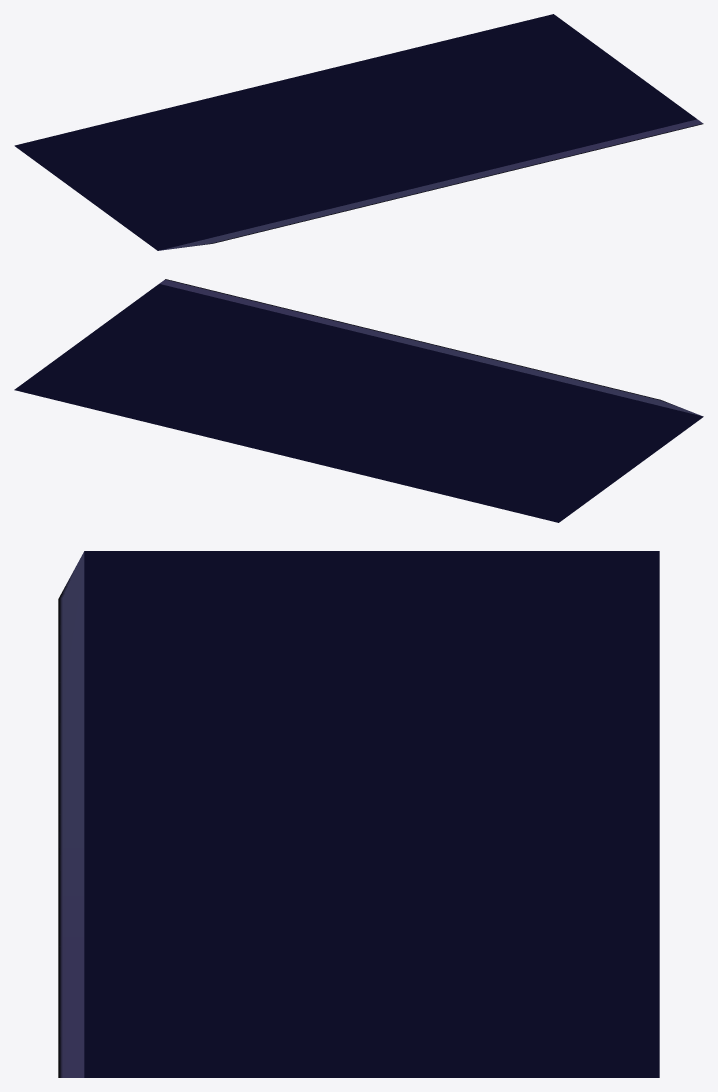
3 renders of one model, top to bottom at view 1: azimuth 30°, elevation 25°; view 2: azimuth 150°, elevation 25°; view 3: azimuth 270°, elevation 25°, orthographic. The views are drawn at different scales.
Visible parts, largest first — view 1: Joint_0_Object_0; view 2: Joint_0_Object_0; view 3: Joint_0_Object_0.
Boxes of the visible parts, <box> form: Joint_0_Object_0: <box>14,14,703,250</box>; Joint_0_Object_0: <box>14,279,703,522</box>; Joint_0_Object_0: <box>58,551,659,1077</box>.
Bounding box in the file's own units: 6500 × 0 × 3135.
Materials: 1 (1 with a texture image).
